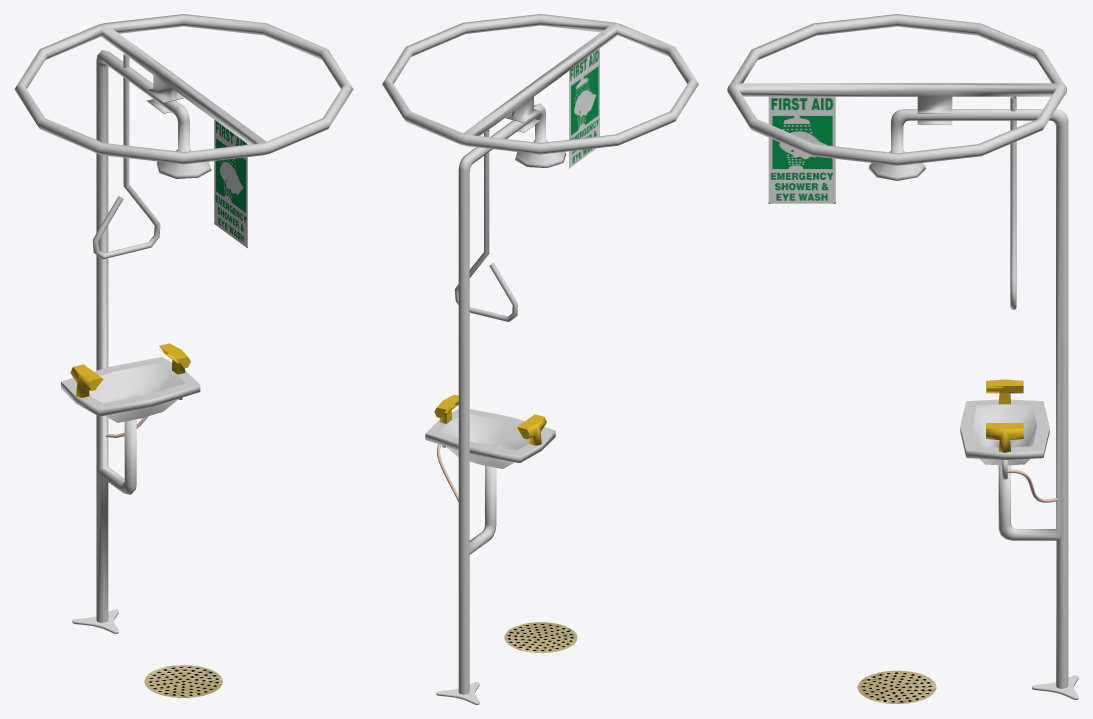
The model's file is safety shower1.fbx.
3 renders of one model, left to right at view 1: azimuth 30°, elevation 25°; view 2: azimuth 150°, elevation 25°; view 3: azimuth 270°, elevation 25°, orthographic. The views are drawn at different scales.
Visible parts, largest first — view 1: Elbow Joint.002, Torus.001, Plane.001, Plane.003, Plane, Cube.001; view 2: Elbow Joint.002, Torus.001, Plane.001, Plane.003, Plane, Cube.001; view 3: Elbow Joint.002, Torus.001, Plane.002, Plane.003, Plane, Cube, Cube.001.
Part boxes in pixels (x1,y1,x2,y2): Elbow Joint.002: (61, 50, 211, 622); Torus.001: (14, 14, 353, 164); Plane.001: (214, 120, 247, 247); Plane.003: (144, 665, 222, 697); Plane: (93, 53, 160, 259); Cube.001: (70, 364, 101, 397); Elbow Joint.002: (425, 103, 566, 694); Torus.001: (382, 14, 698, 154); Plane.001: (569, 48, 599, 168); Plane.003: (504, 622, 577, 652); Plane: (454, 130, 517, 321); Cube.001: (517, 414, 546, 445); Elbow Joint.002: (868, 109, 1068, 688); Torus.001: (727, 14, 1066, 165); Plane.002: (768, 96, 835, 203); Plane.003: (857, 670, 936, 703); Plane: (1010, 96, 1016, 309); Cube: (986, 423, 1023, 452); Cube.001: (986, 379, 1023, 404).
Bounding box in the file's own units: 127 × 246 × 130.
